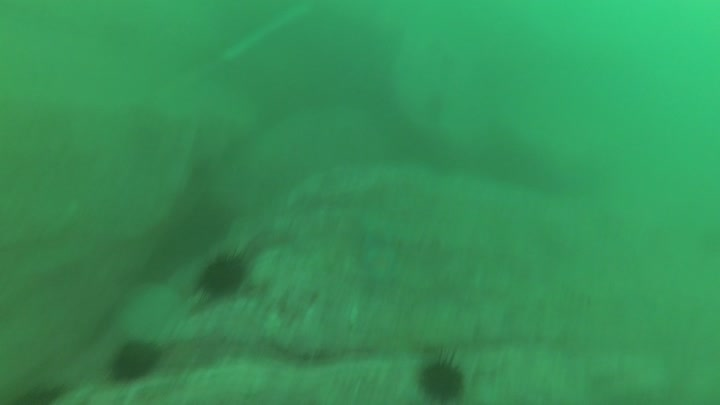echinus: (416, 348, 467, 405), (198, 248, 251, 302), (110, 340, 162, 384), (14, 385, 64, 405)
starfish: (361, 245, 403, 286)
